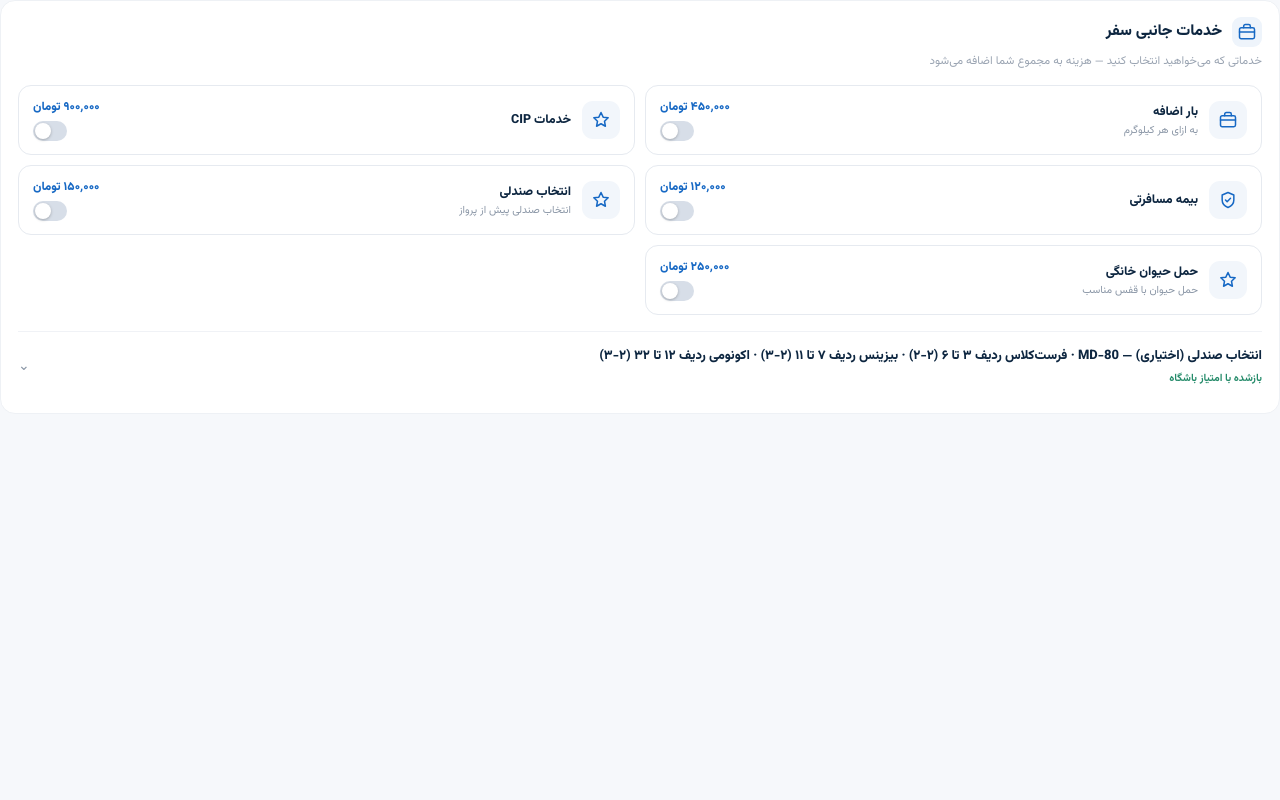
Test: ExtrasStep — design parity › prevents selecting seats outside the purchased cabin and already-taken seats
Click the button with test id "checkout-seat-toggle" at (640, 367), box [18,347,1262,387]
(page scrolled)
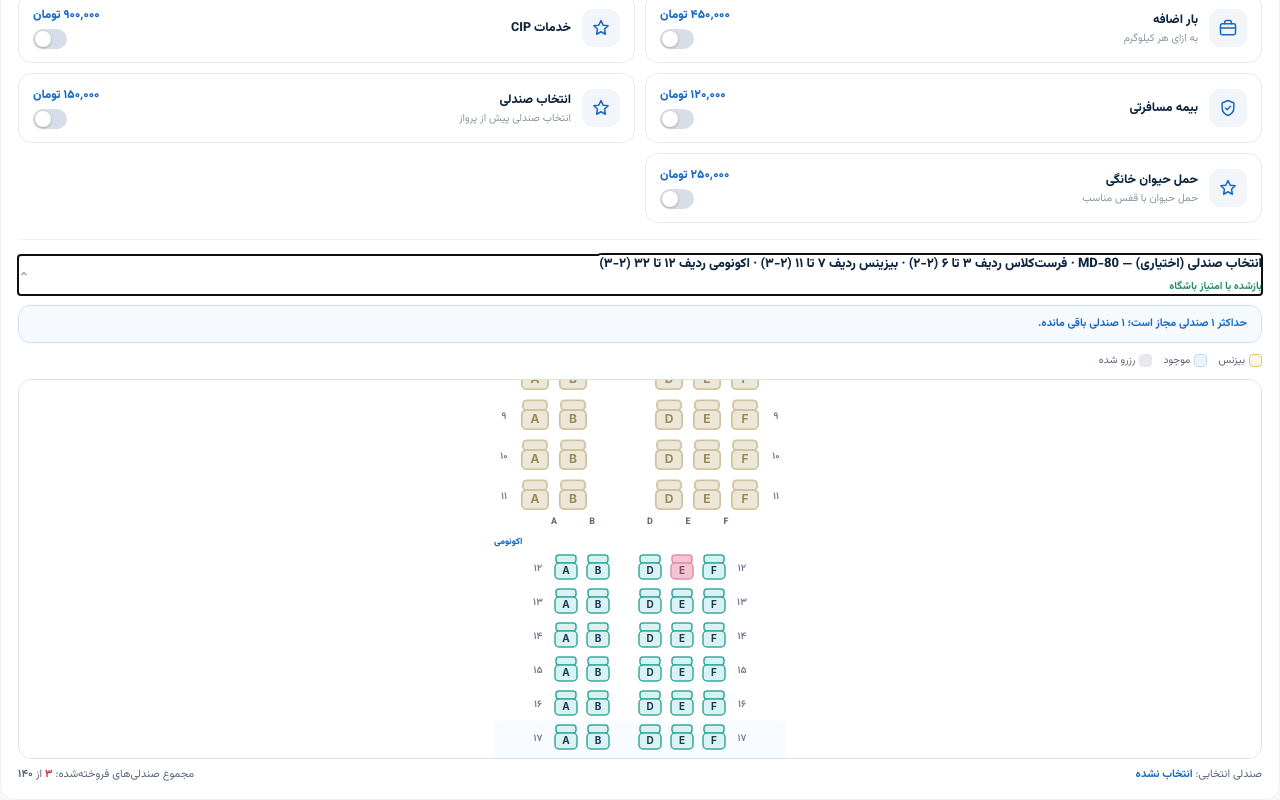
Expected: the button with test id "checkout-seat-12E" is disabled, [668,553,696,583]
Expected: the button with test id "checkout-seat-12D" is enabled, [636,553,664,583]
